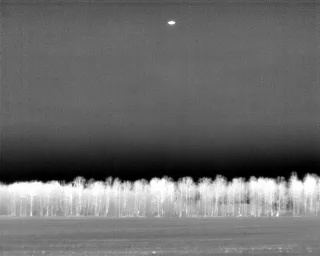DRONE: (165, 17, 179, 29)
